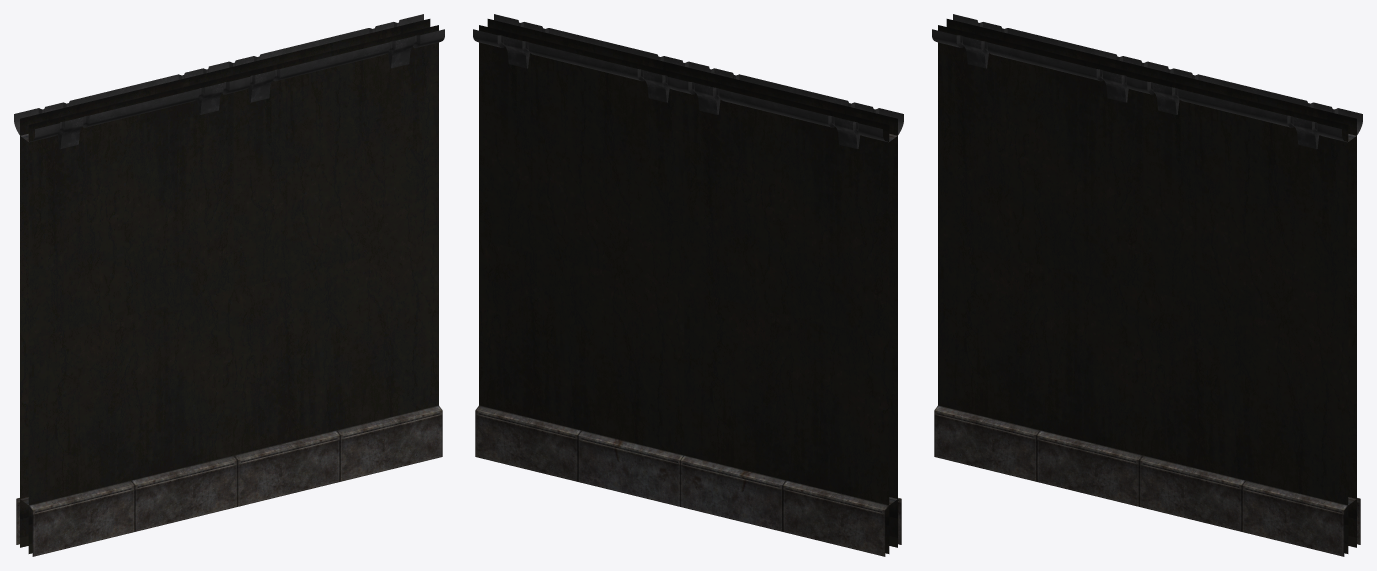
The model's file is lab_flat_glass.dae.
3 renders of one model, left to right at view 1: azimuth 30°, elevation 25°; view 2: azimuth 150°, elevation 25°; view 3: azimuth 330°, elevation 25°, orthographic.
Visible parts, largest first — view 1: glass__2_, lab_glass; view 2: glass__2_, lab_glass; view 3: glass__2_, lab_glass.
Part boxes in pixels (left/top/right/bottom): glass__2_: left=20, top=19, right=438, bottom=553; lab_glass: left=14, top=14, right=444, bottom=556; glass__2_: left=479, top=19, right=897, bottom=553; lab_glass: left=473, top=14, right=903, bottom=556; glass__2_: left=938, top=19, right=1356, bottom=553; lab_glass: left=932, top=14, right=1362, bottom=556.
Bounding box in the file's own units: 4 × 4 × 0.3514.
